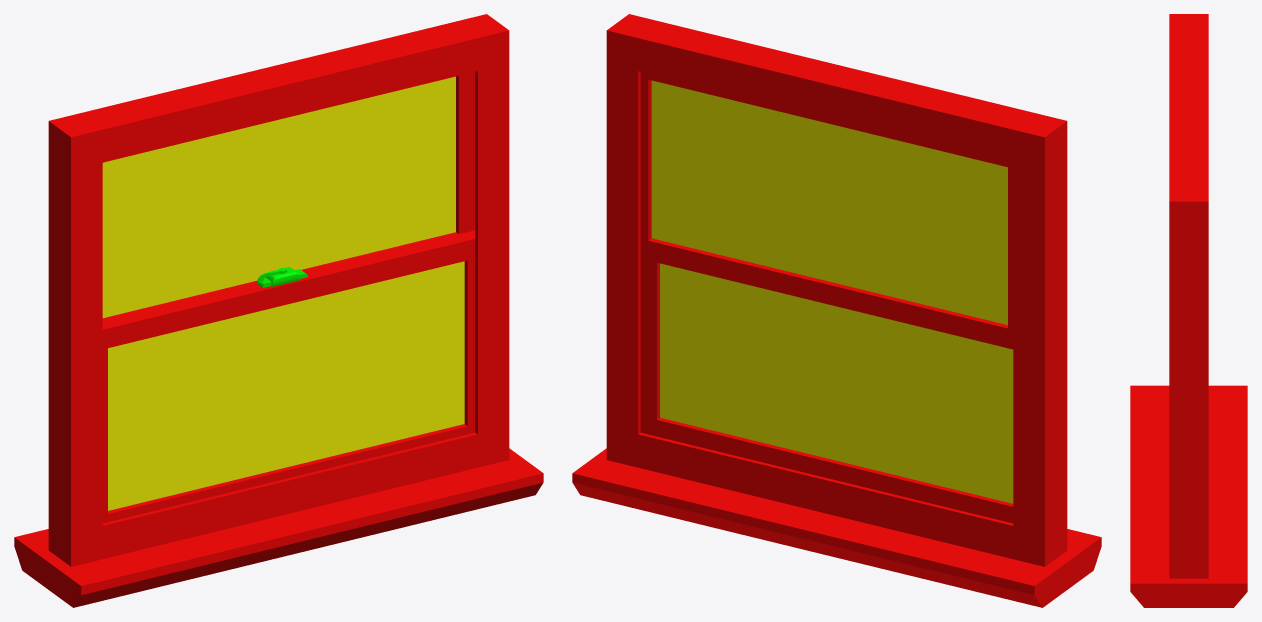
Rendered from window_hung_36x32.glb.
3 views of the same model, side by side, from view 1: azimuth 30°, elevation 25°; view 2: azimuth 150°, elevation 25°; view 3: azimuth 270°, elevation 25° (orthographic). The views are drawn at different scales.
Parts seen in each view (by area): view 1: window_hung_36x32; view 2: window_hung_36x32; view 3: window_hung_36x32.
Part boxes in pixels (x1,y1,x2,y2): window_hung_36x32: (14, 14, 543, 607); window_hung_36x32: (572, 14, 1101, 607); window_hung_36x32: (1130, 14, 1247, 607).
Bounding box in the file's own units: 0.9643 × 0.911 × 0.2416.
